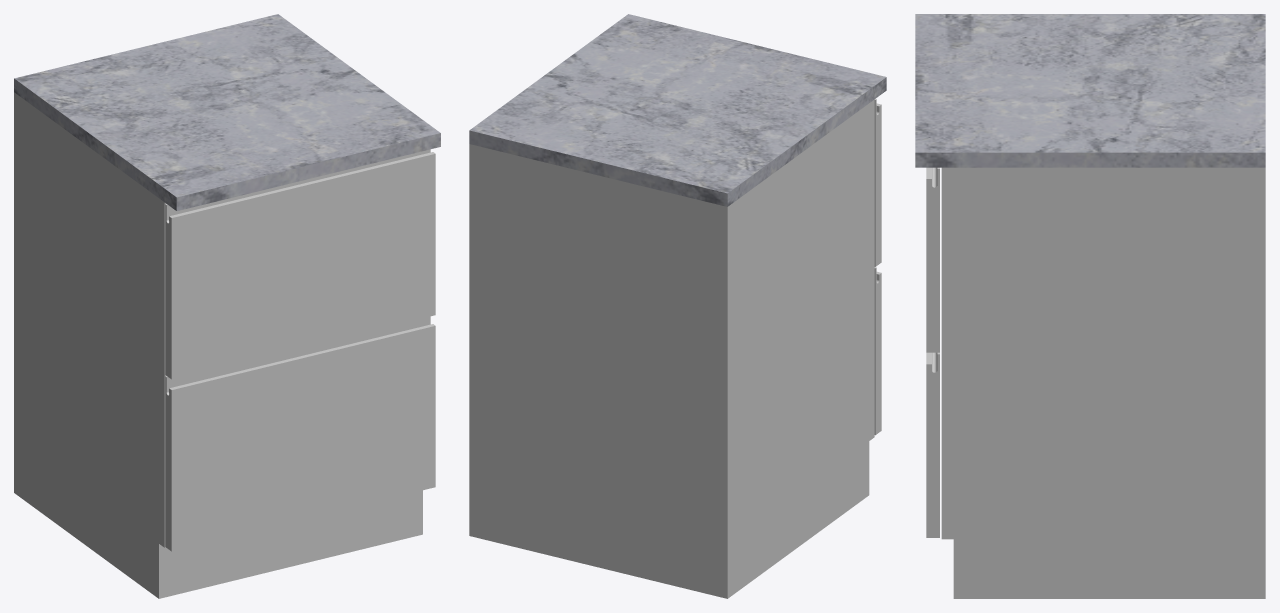
File: kitchen_drawer_2.glb
3 renders of one model, left to right at view 1: azimuth 30°, elevation 25°; view 2: azimuth 150°, elevation 25°; view 3: azimuth 270°, elevation 25°, orthographic. The views are drawn at different scales.
Visible parts, largest first — view 1: Geom3D (×4); view 2: Geom3D (×4); view 3: Geom3D (×4).
Part boxes in pixels (<box>): Geom3D (×4): <box>14,14,440,598</box>; Geom3D (×4): <box>469,14,886,598</box>; Geom3D (×4): <box>915,14,1265,598</box>.
Bounding box in the file's own units: 0.6 × 0.9 × 0.64.
2 materials, 1 textured.
